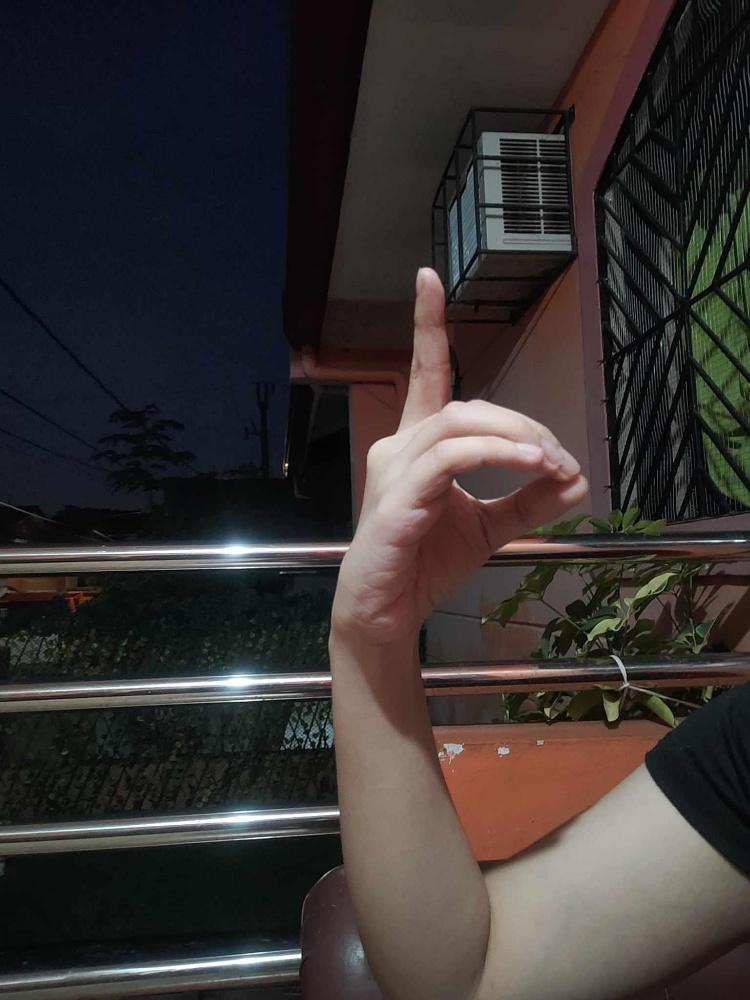d: (330, 266, 588, 641)
